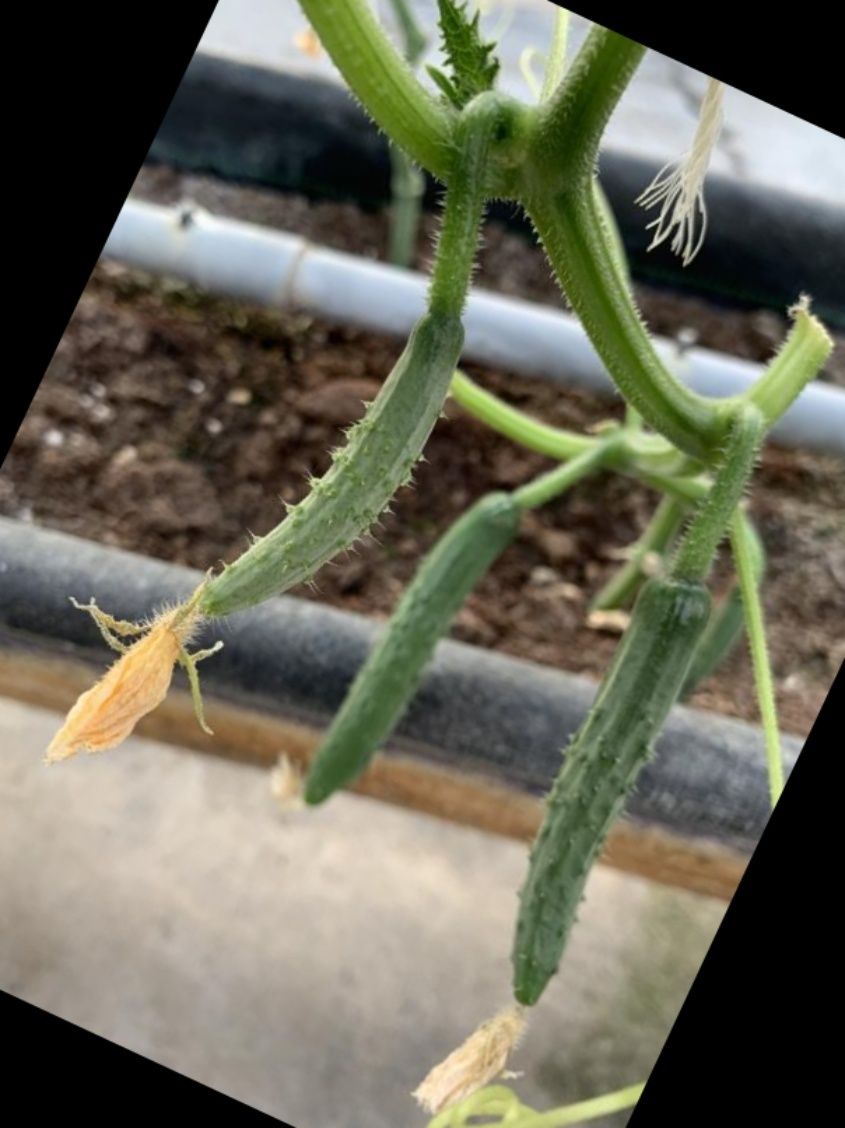growth: (297, 496, 518, 808)
